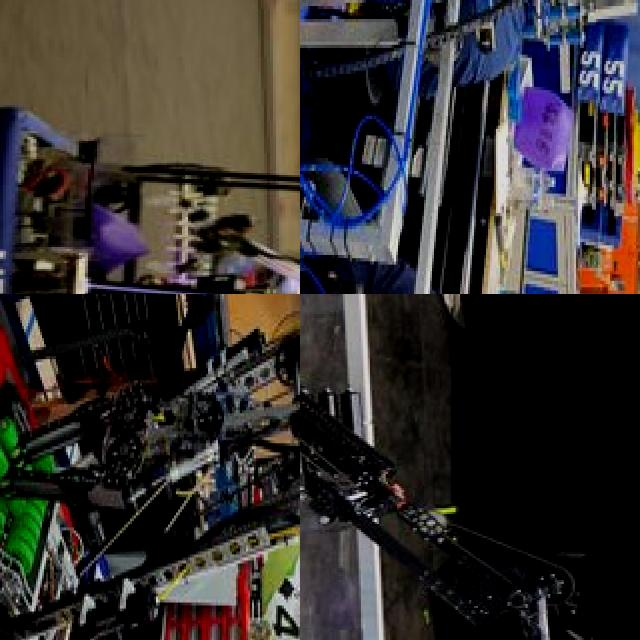FRC-Robots: (300, 324, 640, 640), (0, 294, 300, 640), (300, 0, 640, 294), (0, 49, 300, 294)
